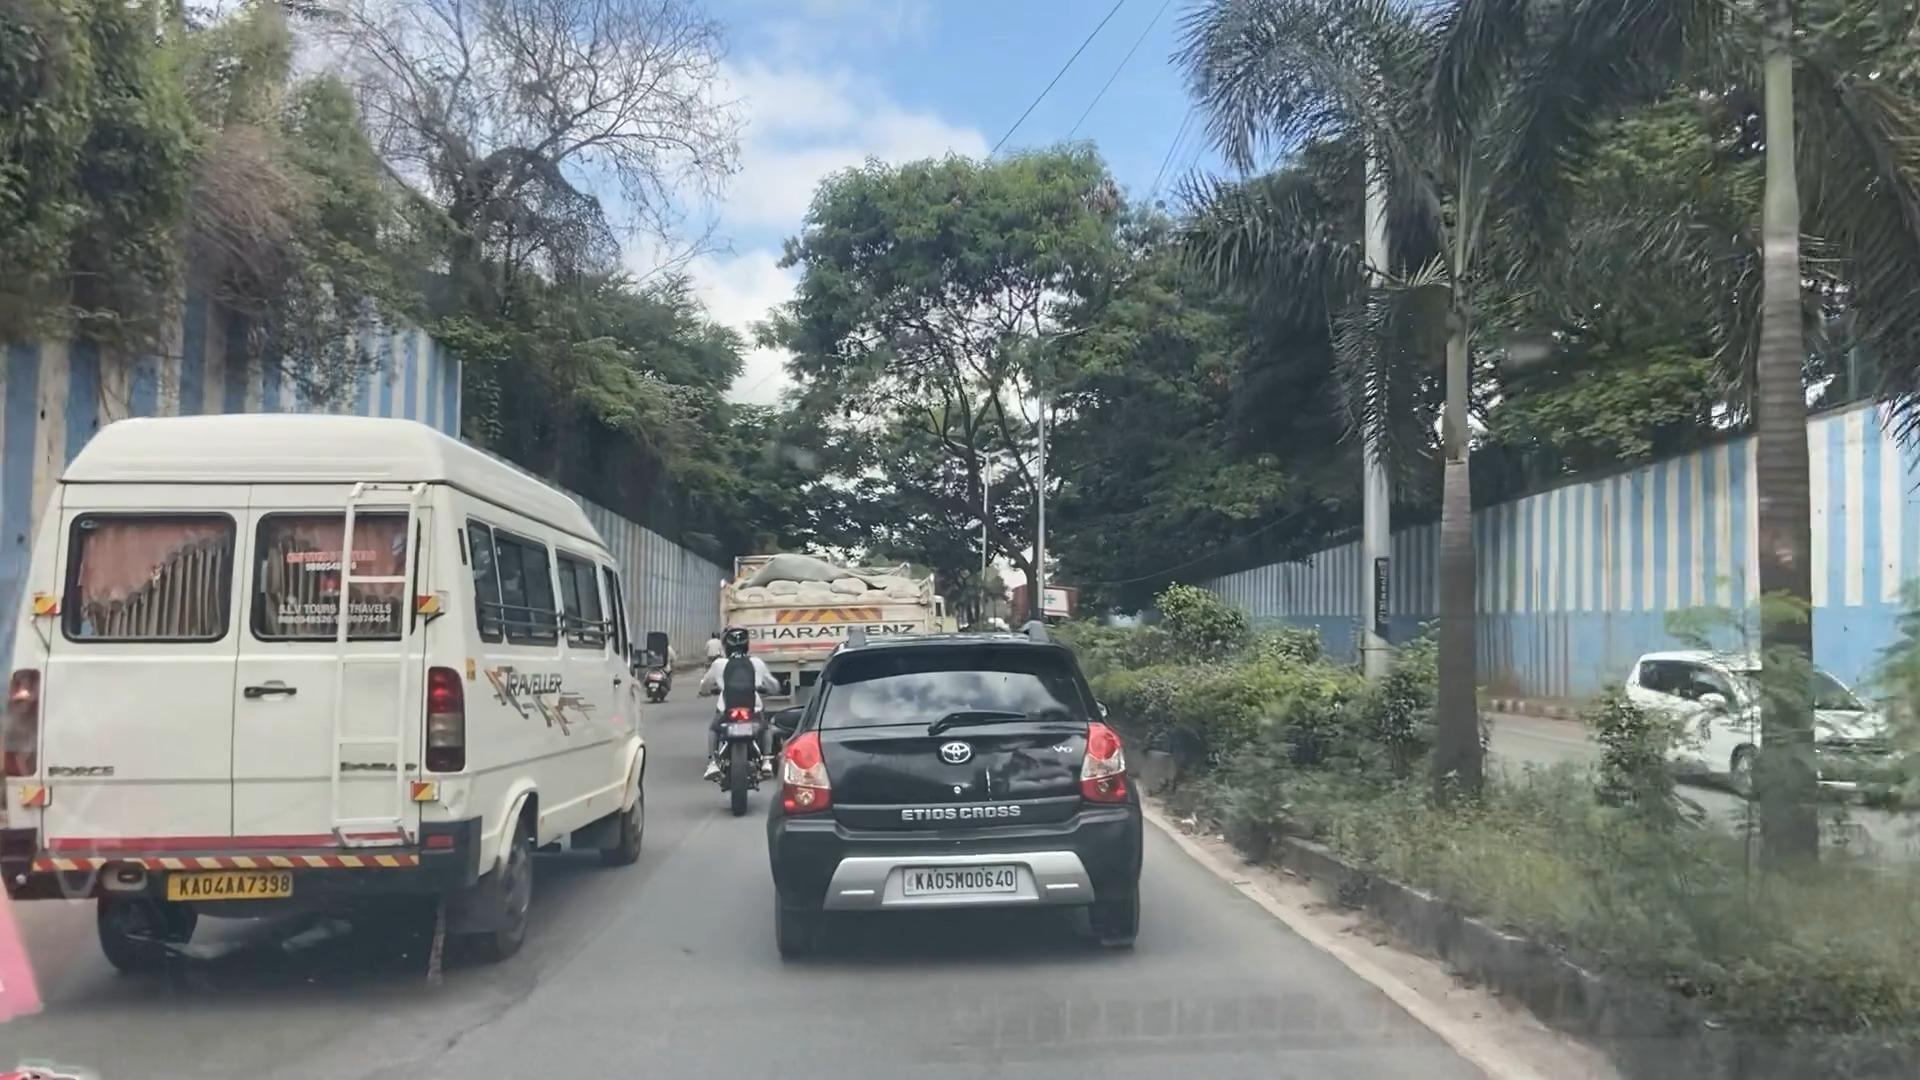HMV: (0, 406, 654, 1000)
LMV: (728, 617, 1151, 1001), (700, 605, 787, 814)
